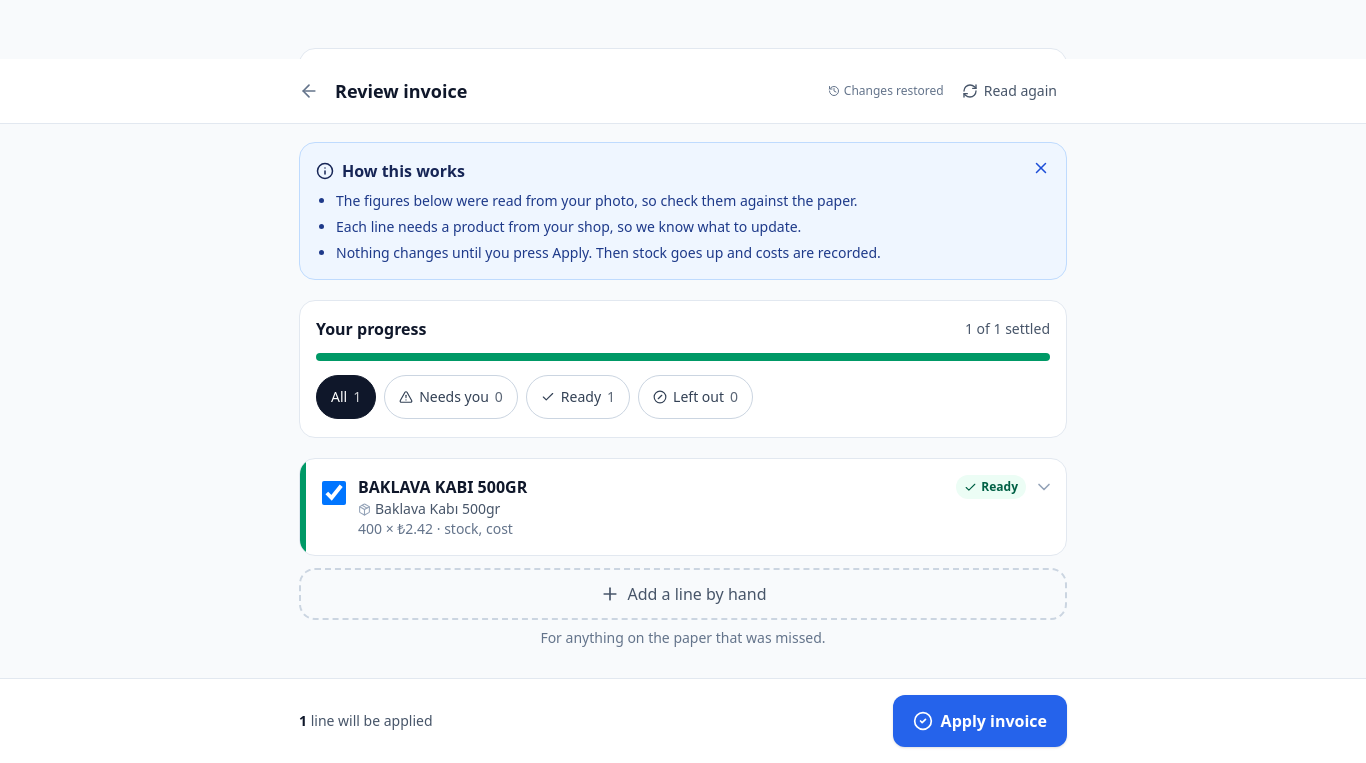
Test case: working on the review › spells out what applying a line will do to the shop
Expected: the text "BAKLAVA KABI 500GR" is shown, top-left (358, 476), bottom-right (527, 498)
Click the button "BAKLAVA KABI 500GR" at (443, 487), box top-left (358, 471), bottom-right (1054, 543)
(page scrolled)
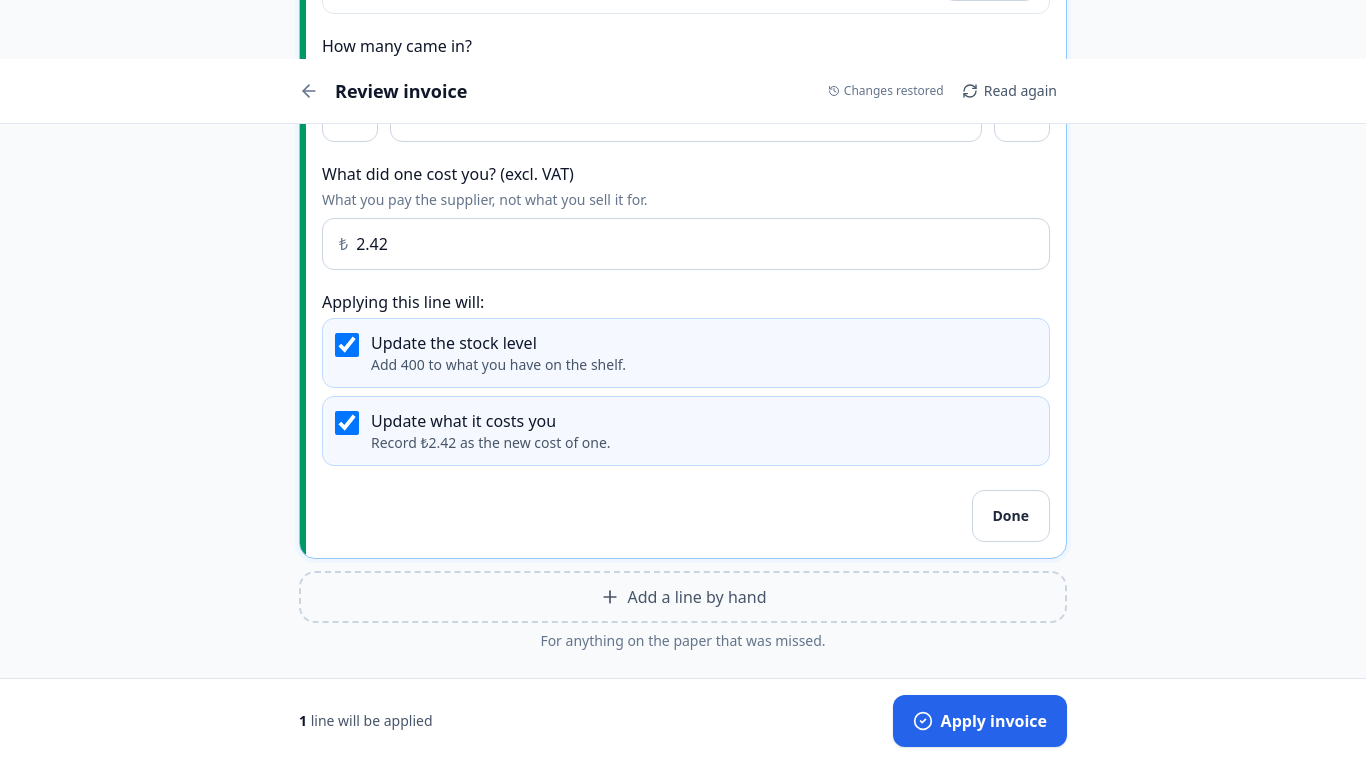
Expected: the text "Add 400 to what you have on the shelf." is shown, top-left (371, 355), bottom-right (626, 375)
Expected: the text "Record ₺2.42 as the new cost of one." is shown, top-left (371, 433), bottom-right (611, 453)
